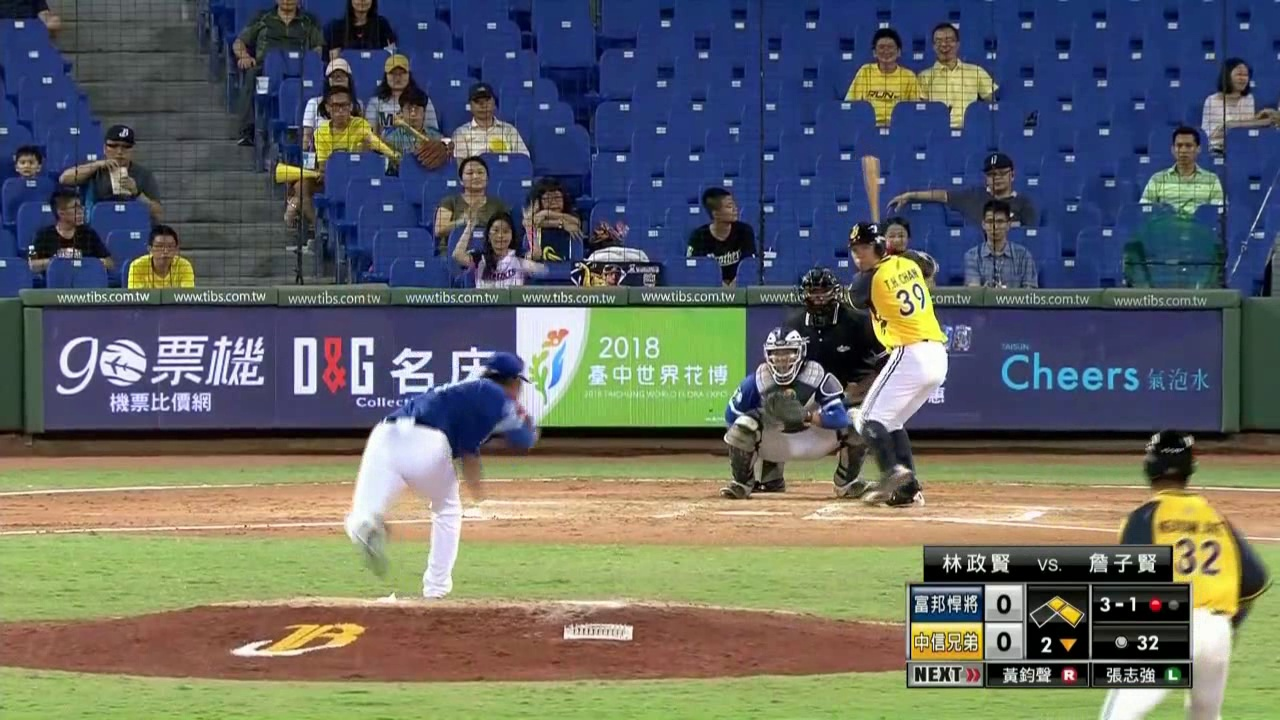ball: (519, 257, 536, 273)
base: (1028, 593, 1086, 628)
bat: (860, 153, 883, 222)
out: (1143, 590, 1186, 621)
score1: (987, 588, 1020, 619)
score2: (986, 625, 1022, 656)
session: (1030, 627, 1086, 660)
strikeball: (1095, 591, 1139, 622)
total: (1099, 629, 1183, 658)
